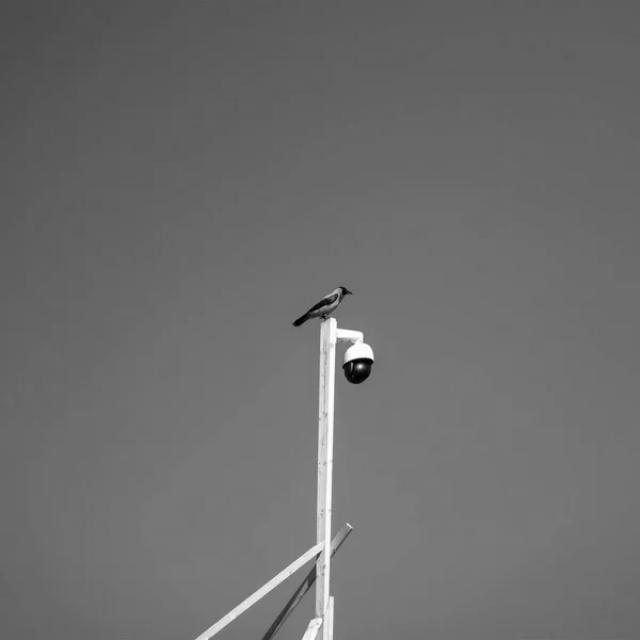Pole: (264, 318, 374, 640)
